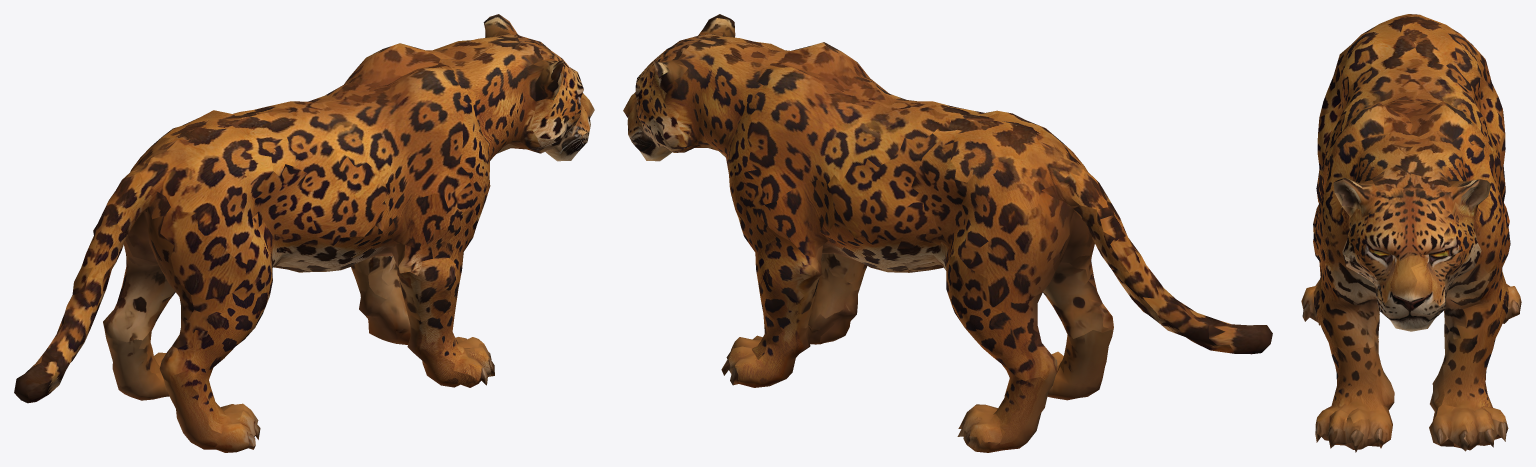
File: onca_pintada.glb
The picture shows the model from 3 angles, left to right: view 1: azimuth 30°, elevation 25°; view 2: azimuth 150°, elevation 25°; view 3: azimuth 270°, elevation 25°; orthographic projection. The views are drawn at different scales.
Visible parts, largest first — view 1: geometry_0; view 2: geometry_0; view 3: geometry_0.
Part boxes in pixels (x1,y1,x2,y2): geometry_0: [14, 14, 594, 452]; geometry_0: [623, 14, 1272, 452]; geometry_0: [1301, 14, 1521, 452].
Bounding box in the file's own units: 0.9806 × 0.4703 × 0.2896.
1 material, 1 textured.
